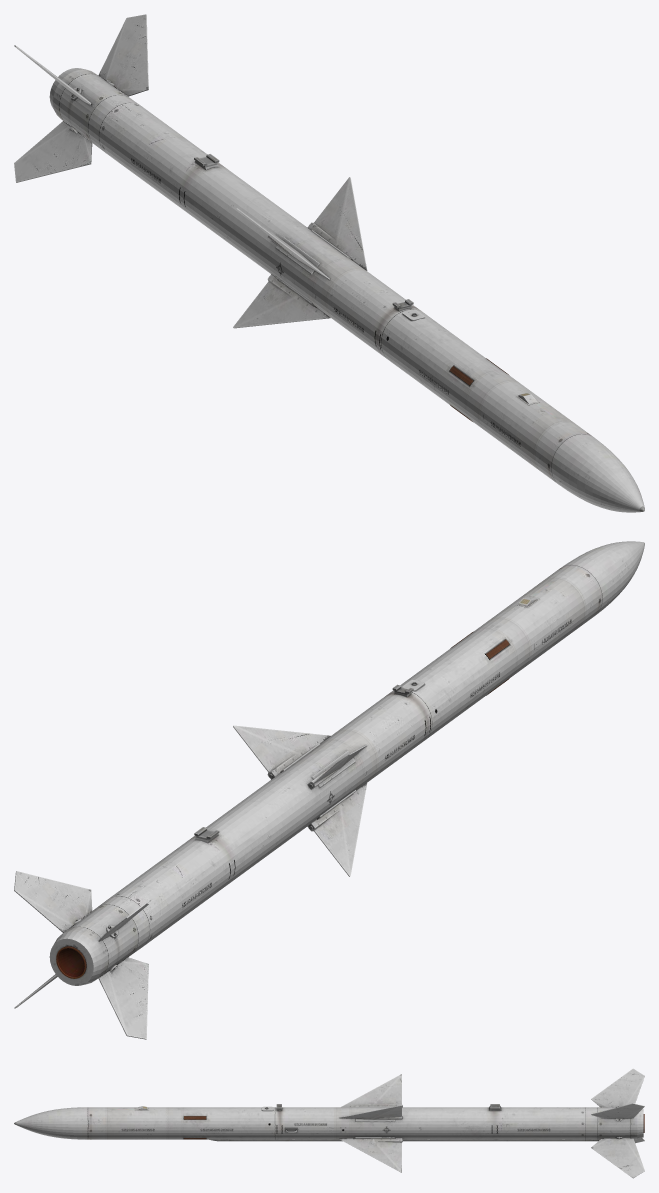
3 renders of one model, top to bottom at view 1: azimuth 30°, elevation 25°; view 2: azimuth 150°, elevation 25°; view 3: azimuth 270°, elevation 25°, orthographic. The views are drawn at different scales.
Parts seen in each view (by area): view 1: pl_12a_missile#@root_238; view 2: pl_12a_missile#@root_238; view 3: pl_12a_missile#@root_238.
Boxes of the visible parts, bbox=[...] form: pl_12a_missile#@root_238: bbox=[14, 14, 644, 512]; pl_12a_missile#@root_238: bbox=[14, 541, 644, 1039]; pl_12a_missile#@root_238: bbox=[14, 1068, 644, 1178].
Bounding box in the file's own units: 51.94 × 51.94 × 394.
